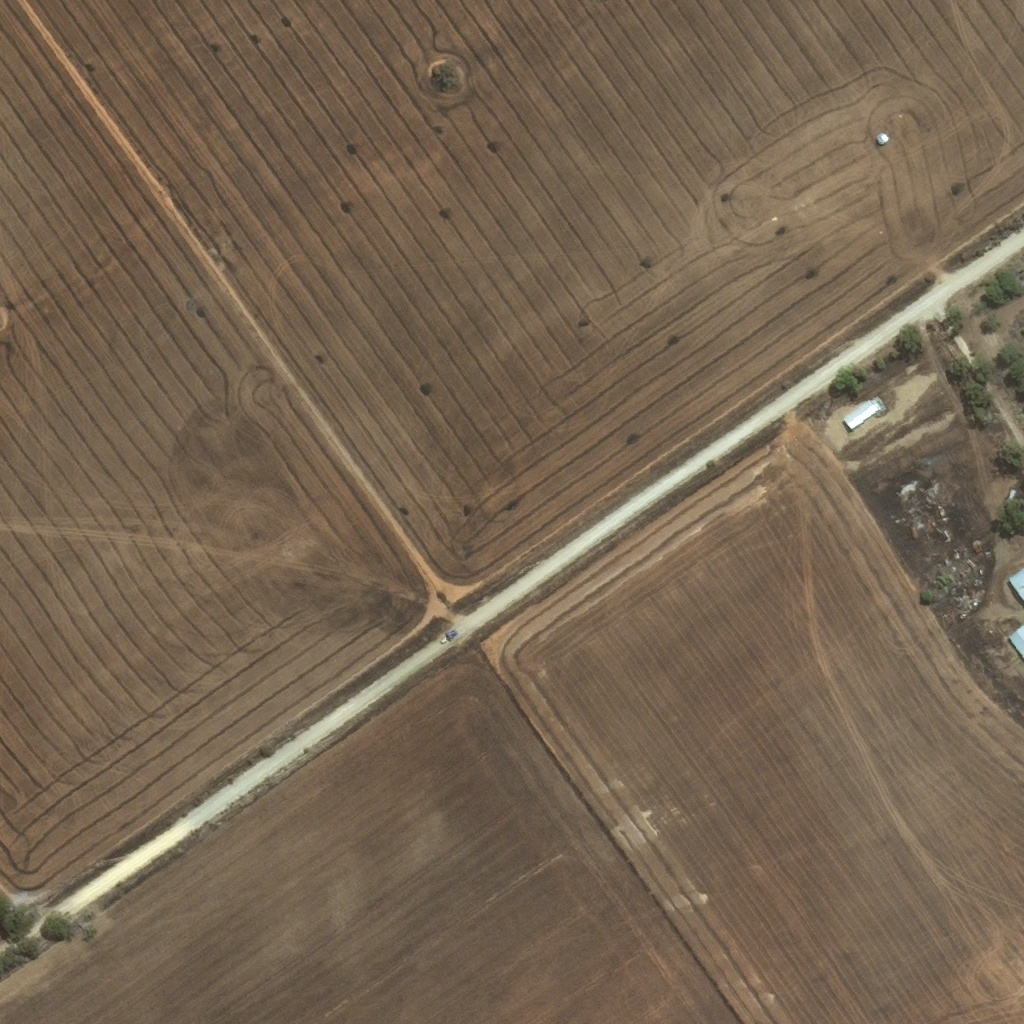0 no-damage: (842, 397, 881, 428), (1007, 567, 1023, 600), (1007, 625, 1023, 657)
